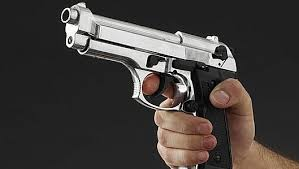gun: (58, 1, 256, 169)
